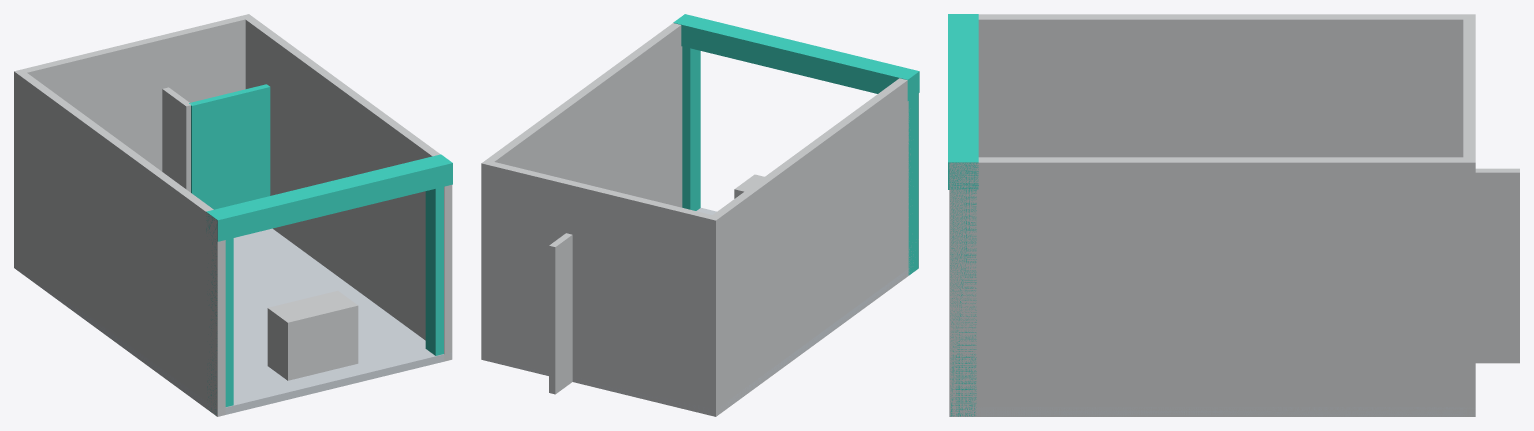
3 views of the same model, side by side, from view 1: azimuth 30°, elevation 25°; view 2: azimuth 150°, elevation 25°; view 3: azimuth 270°, elevation 25° (orthographic). The views are drawn at different scales.
Visible parts, largest first — view 1: Exhibition Booth Concept; view 2: Exhibition Booth Concept; view 3: Exhibition Booth Concept.
Boxes of the visible parts, x1,y1,x2,y2 form: Exhibition Booth Concept: (14, 14, 452, 416); Exhibition Booth Concept: (481, 14, 919, 416); Exhibition Booth Concept: (948, 14, 1519, 416).
Bounding box in the file's own units: 4 × 3.2 × 6.52.
